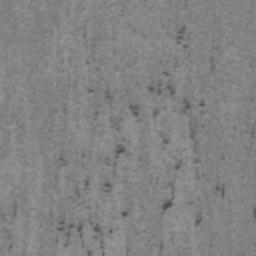Oxide scale of temperature system: (51, 69, 227, 256), (0, 201, 18, 252), (174, 23, 189, 50), (207, 55, 218, 73), (248, 206, 256, 220)
